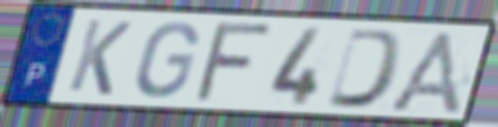4: (266, 24, 327, 108)
A: (383, 28, 465, 117)
D: (323, 26, 408, 111)
F: (190, 21, 280, 105)
G: (132, 20, 202, 101)
K: (64, 16, 135, 98)
